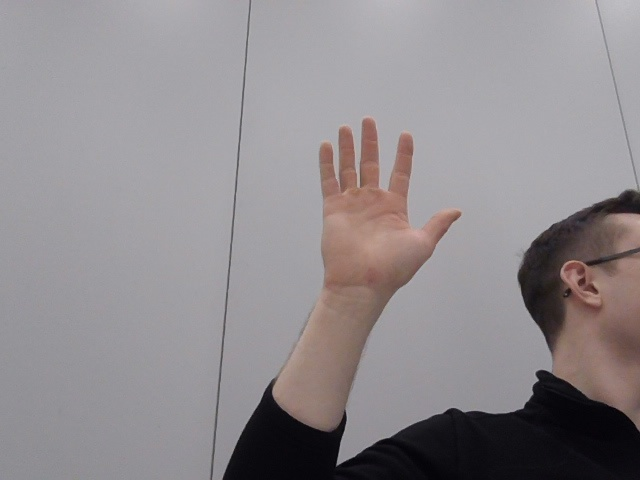nada: (277, 105, 477, 333)
